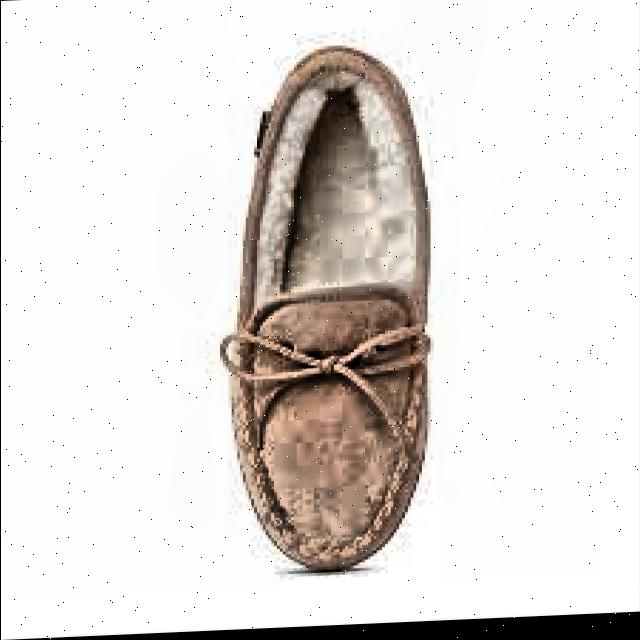shoes: (176, 4, 489, 597)
